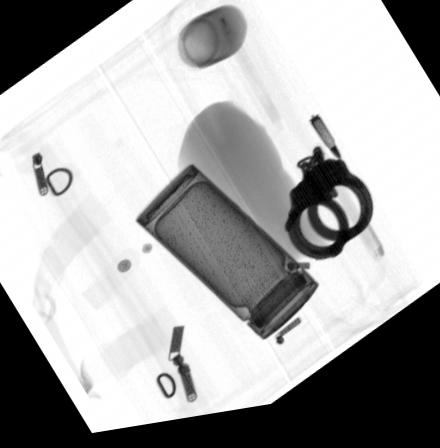Bullet: (309, 126, 339, 170)
HandCuffs: (283, 155, 374, 271)
